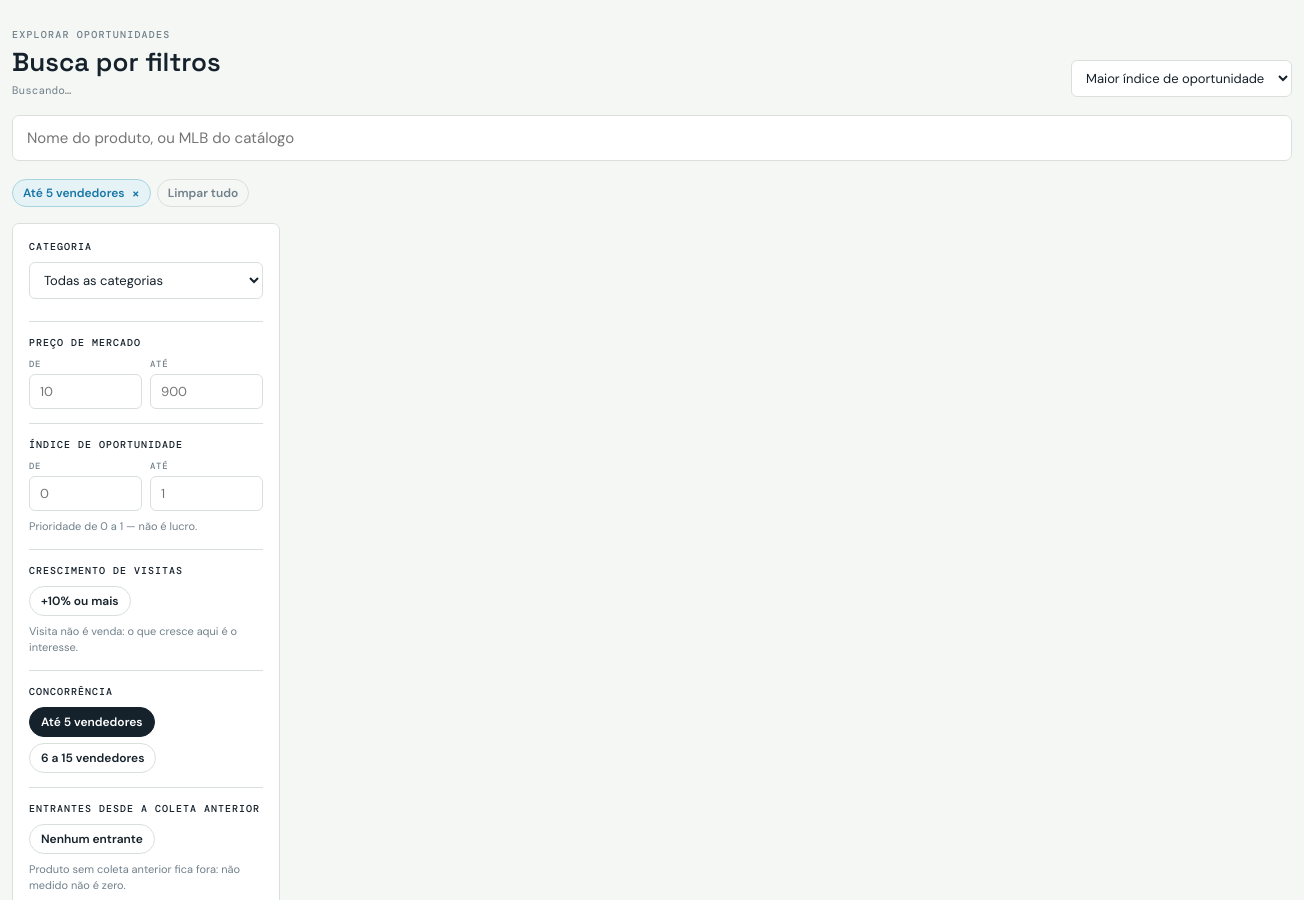
Scenario: Explore › o selo do filtro ativo aparece e some ao ser removido
The width and height of the screenshot is (1304, 900).
Dois botões com o mesmo nome: o da barra lateral e o selo. O selo é o do fim.
Click the button "Até 5 vendedores" at (92, 722), box [29, 707, 155, 737]
(page scrolled)
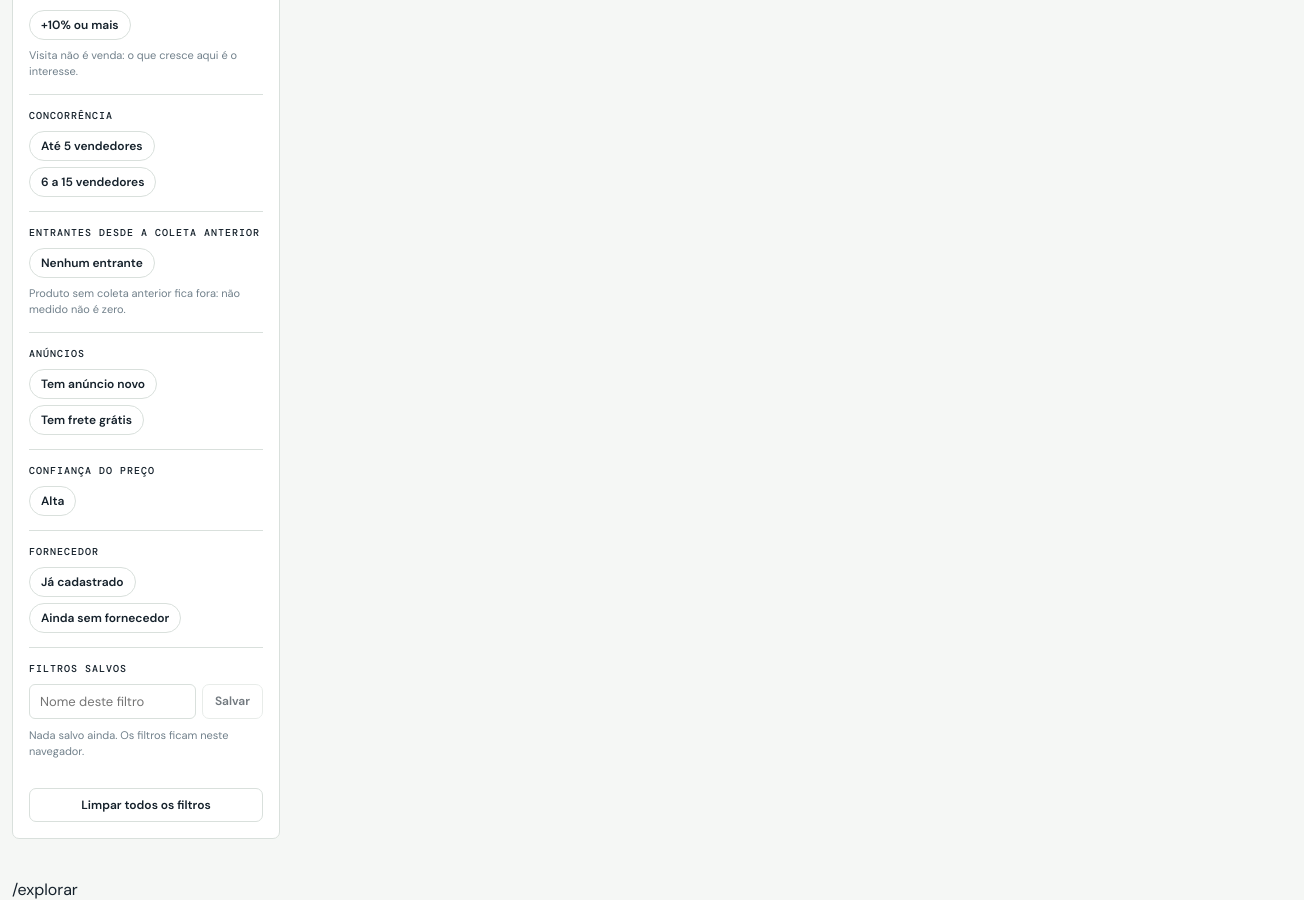
Expected: the text with test id "url" reads "/explorar", [12, 879, 78, 899]
